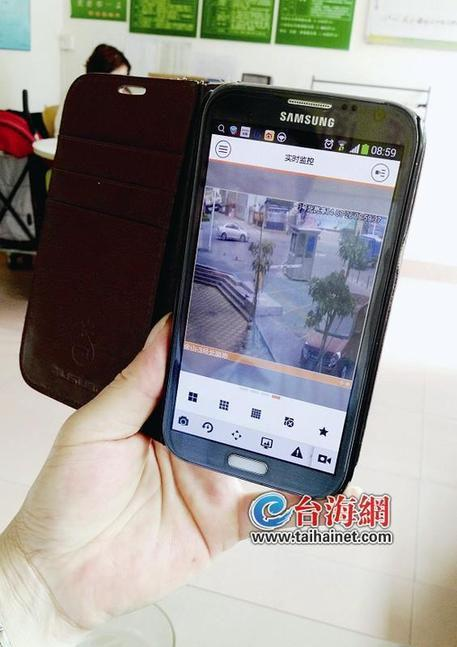phone: (164, 81, 423, 501)
